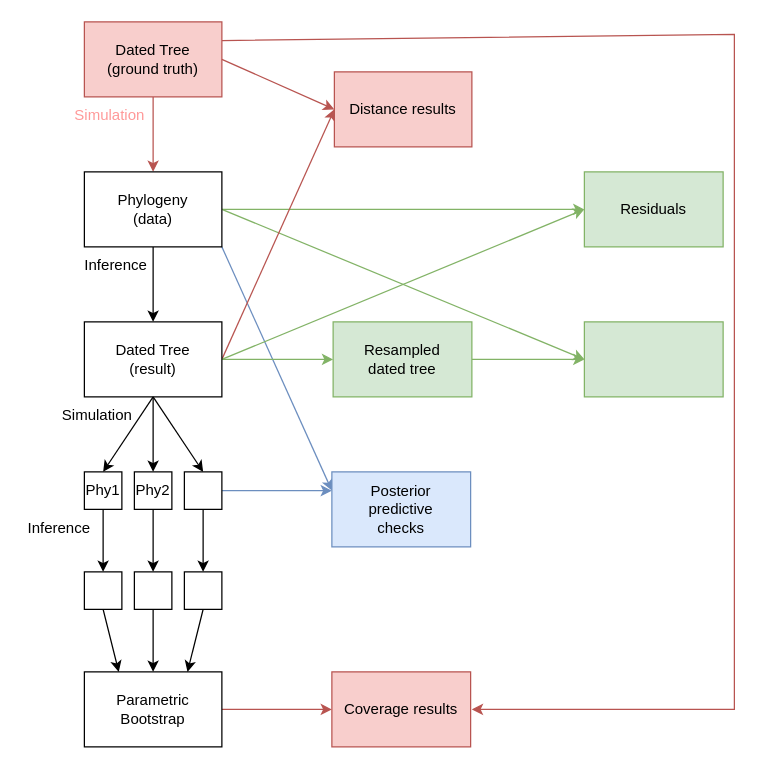
The diagram is 766 pixels wide and 769 high, and some of its shapes have lost their labels. Here are the shapes that lost their labels. From the top down, the box of each, then its label:
(583, 321, 723, 397): Corrected residuals
(183, 471, 222, 509): Phy3
(83, 571, 122, 609): DT1
(133, 571, 172, 609): DT2
(183, 571, 222, 609): DT3
